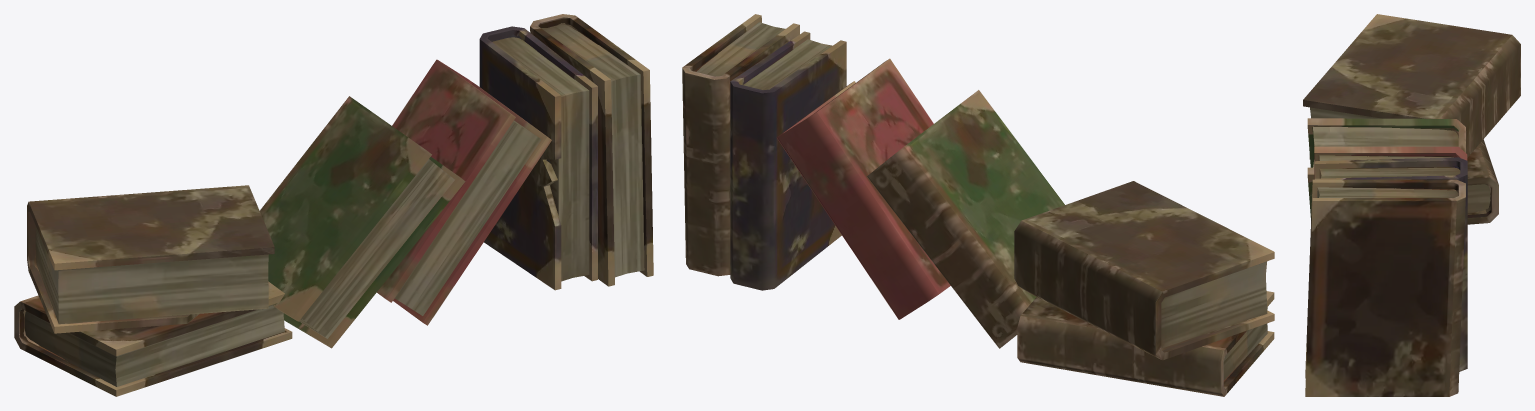
3 renders of one model, left to right at view 1: azimuth 30°, elevation 25°; view 2: azimuth 150°, elevation 25°; view 3: azimuth 270°, elevation 25°, orthographic. The views are drawn at different scales.
Visible parts, largest first — view 1: SM_DR_BookStack_04_LOD0; view 2: SM_DR_BookStack_04_LOD0; view 3: SM_DR_BookStack_04_LOD0.
Part boxes in pixels (x1,y1,x2,y2): SM_DR_BookStack_04_LOD0: [14, 14, 653, 396]; SM_DR_BookStack_04_LOD0: [682, 14, 1274, 396]; SM_DR_BookStack_04_LOD0: [1303, 14, 1520, 396].
Bounding box in the file's own units: 1.11 × 0.3904 × 0.3854.
Materials: 1 (1 with a texture image).
